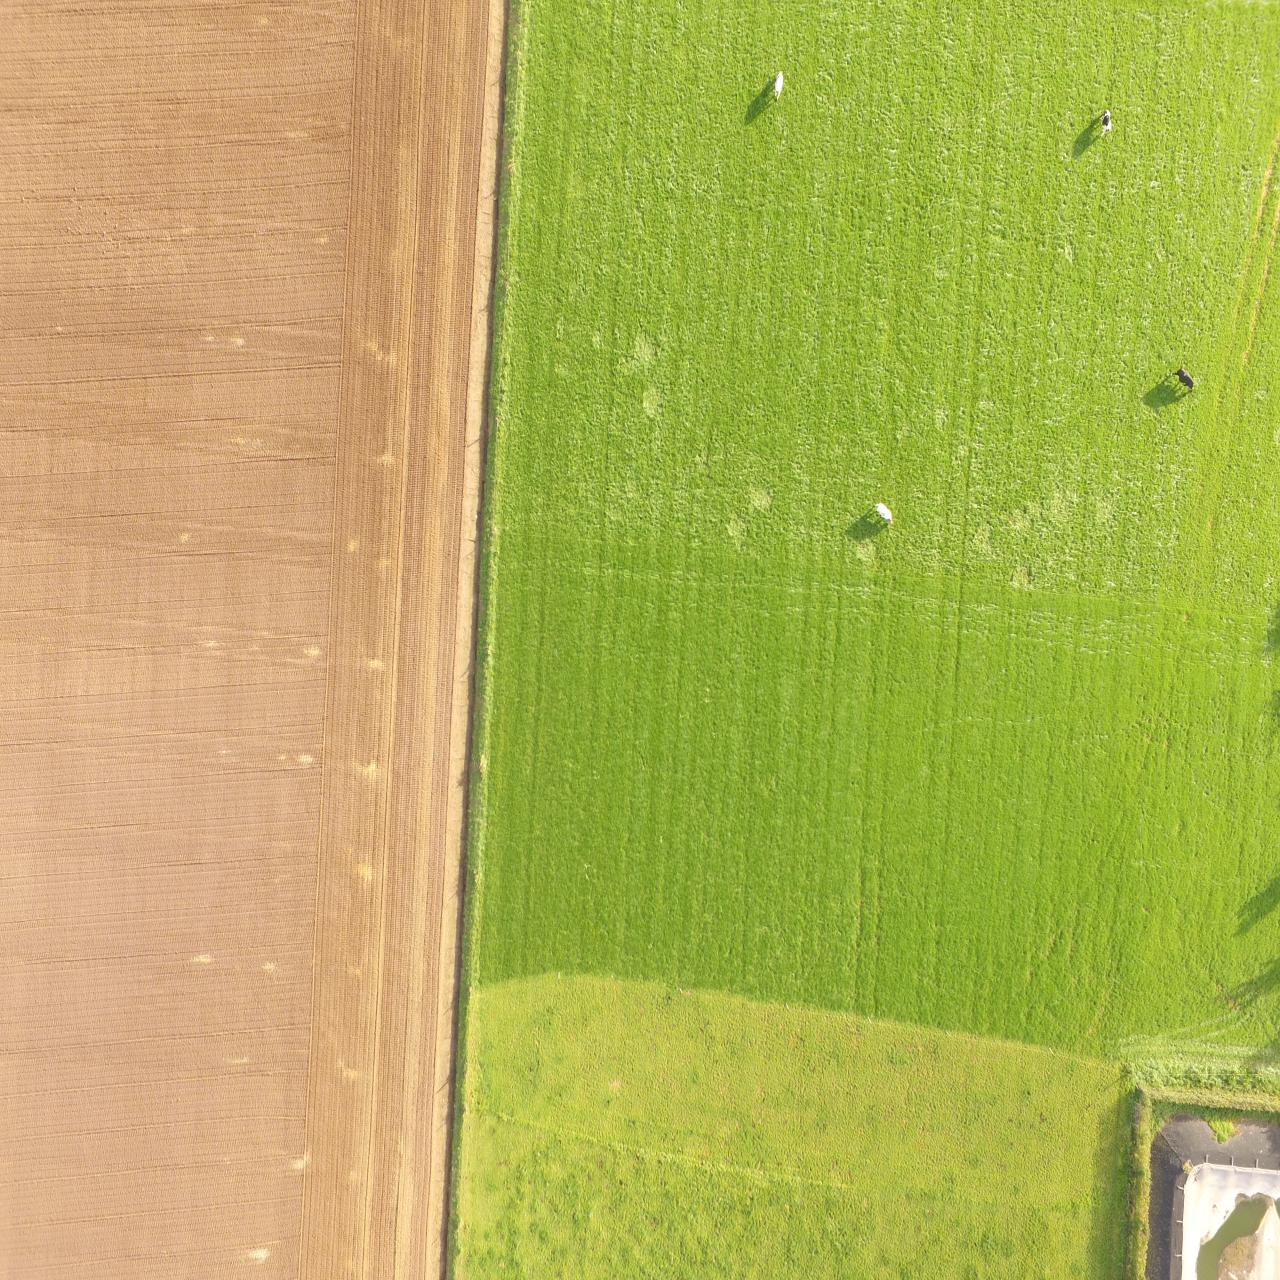cow: (1170, 366, 1194, 393), (873, 502, 894, 526), (1097, 108, 1112, 138), (772, 69, 783, 101)
